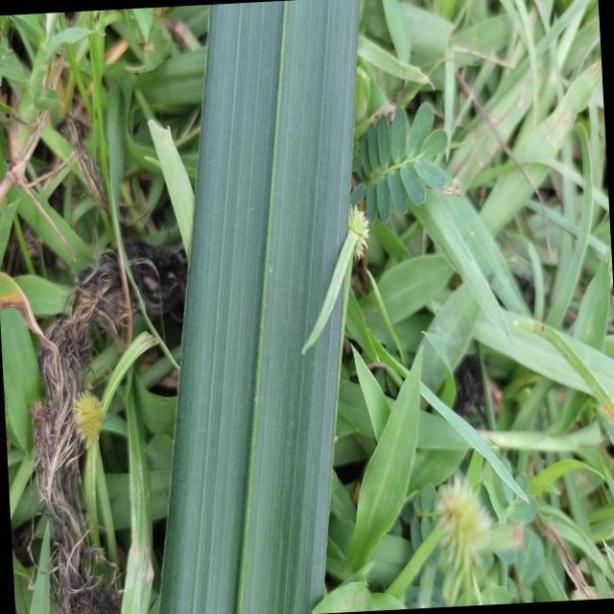Healthy: (158, 0, 362, 614)
